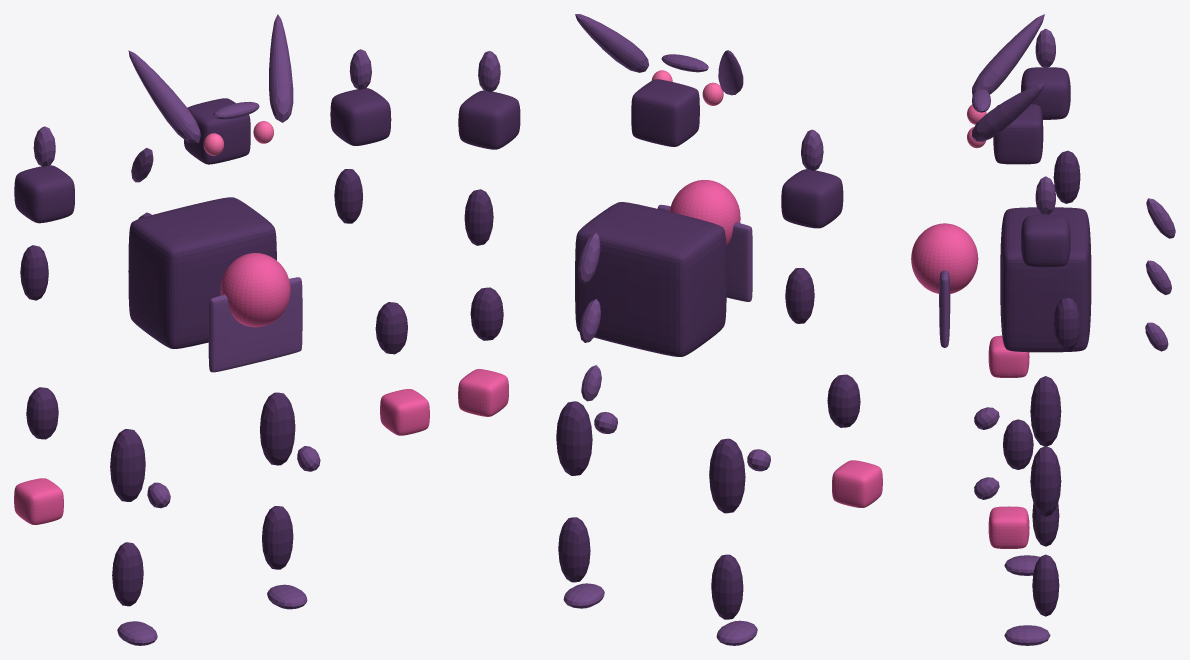
Rendered from SM_LW_Berserker.fbx.
3 renders of one model, left to right at view 1: azimuth 30°, elevation 25°; view 2: azimuth 150°, elevation 25°; view 3: azimuth 270°, elevation 25°, orthographic. The views are drawn at different scales.
Visible parts, largest first — view 1: SM_LW_Berserker_Torso, SM_LW_Berserker_BellyPlate, SM_LW_Berserker_ChargeCore, SM_LW_Berserker_Pauldron_R, SM_LW_Berserker_Pauldron_L, SM_LW_Berserker_Head, SM_LW_Berserker_Thigh_L, SM_LW_Berserker_Thigh_R, SM_LW_Berserker_Horn_R, SM_LW_Berserker_Horn_L, SM_LW_Berserker_Fist_L, SM_LW_Berserker_Fist_R (+11 smaller); view 2: SM_LW_Berserker_Torso, SM_LW_Berserker_Head, SM_LW_Berserker_Pauldron_L, SM_LW_Berserker_Pauldron_R, SM_LW_Berserker_ChargeCore, SM_LW_Berserker_Thigh_R, SM_LW_Berserker_Thigh_L, SM_LW_Berserker, SM_LW_Berserker_Fist_R, SM_LW_Berserker_Fist_L, SM_LW_Berserker_BellyPlate, SM_LW_Berserker_Shin_L (+11 smaller); view 3: SM_LW_Berserker_Torso, SM_LW_Berserker_ChargeCore, SM_LW_Berserker_Pauldron_L, SM_LW_Berserker_Head, SM_LW_Berserker_Pauldron_R, SM_LW_Berserker_Horn_R, SM_LW_Berserker_Thigh_L, SM_LW_Berserker_Thigh_R, SM_LW_Berserker, SM_LW_Berserker_Fist_L, SM_LW_Berserker_Horn_L, SM_LW_Berserker_Shin_L (+12 smaller).
Boxes of the visible parts, left/top/right/bottom form: SM_LW_Berserker_Torso: left=128, top=197, right=276, bottom=348; SM_LW_Berserker_BellyPlate: left=208, top=277, right=302, bottom=372; SM_LW_Berserker_ChargeCore: left=220, top=253, right=290, bottom=327; SM_LW_Berserker_Pauldron_R: left=14, top=165, right=74, bottom=223; SM_LW_Berserker_Pauldron_L: left=330, top=88, right=391, bottom=145; SM_LW_Berserker_Head: left=184, top=98, right=250, bottom=164; SM_LW_Berserker_Thigh_L: left=260, top=392, right=295, bottom=465; SM_LW_Berserker_Thigh_R: left=110, top=429, right=145, bottom=501; SM_LW_Berserker_Horn_R: left=128, top=50, right=200, bottom=143; SM_LW_Berserker_Horn_L: left=269, top=14, right=293, bottom=122; SM_LW_Berserker_Fist_L: left=380, top=389, right=429, bottom=435; SM_LW_Berserker_Fist_R: left=14, top=478, right=63, bottom=524; SM_LW_Berserker_Torso: left=575, top=202, right=726, bottom=356; SM_LW_Berserker_Head: left=631, top=79, right=699, bottom=146; SM_LW_Berserker_Pauldron_L: left=458, top=90, right=520, bottom=149; SM_LW_Berserker_Pauldron_R: left=781, top=169, right=843, bottom=228; SM_LW_Berserker_ChargeCore: left=669, top=180, right=740, bottom=245; SM_LW_Berserker_Thigh_R: left=709, top=438, right=745, bottom=513; SM_LW_Berserker_Thigh_L: left=556, top=401, right=592, bottom=475; SM_LW_Berserker: left=578, top=232, right=601, bottom=401; SM_LW_Berserker_Fist_R: left=832, top=460, right=882, bottom=507; SM_LW_Berserker_Fist_L: left=458, top=369, right=508, bottom=416; SM_LW_Berserker_BellyPlate: left=657, top=204, right=752, bottom=301; SM_LW_Berserker_Shin_L: left=558, top=517, right=590, bottom=582; SM_LW_Berserker_Torso: left=1000, top=207, right=1091, bottom=352; SM_LW_Berserker_ChargeCore: left=911, top=223, right=978, bottom=293; SM_LW_Berserker_Pauldron_L: left=1020, top=214, right=1070, bottom=267; SM_LW_Berserker_Head: left=993, top=104, right=1043, bottom=164; SM_LW_Berserker_Pauldron_R: left=1021, top=67, right=1070, bottom=119; SM_LW_Berserker_Horn_R: left=972, top=14, right=1044, bottom=95; SM_LW_Berserker_Thigh_L: left=1030, top=446, right=1061, bottom=516; SM_LW_Berserker_Thigh_R: left=1030, top=376, right=1061, bottom=446; SM_LW_Berserker: left=1145, top=198, right=1175, bottom=351; SM_LW_Berserker_Fist_L: left=988, top=506, right=1029, bottom=548; SM_LW_Berserker_Horn_L: left=972, top=83, right=1044, bottom=141; SM_LW_Berserker_Shin_L: left=1032, top=554, right=1059, bottom=616.
Bounding box in the file's own units: 0.969 × 0.5759 × 1.34.
